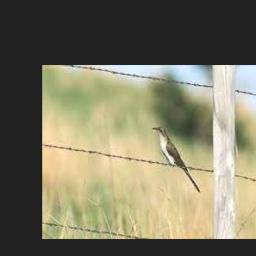Cuckoo: (151, 126, 200, 193)
